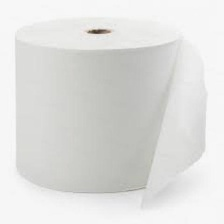tissue: (10, 12, 212, 214)
